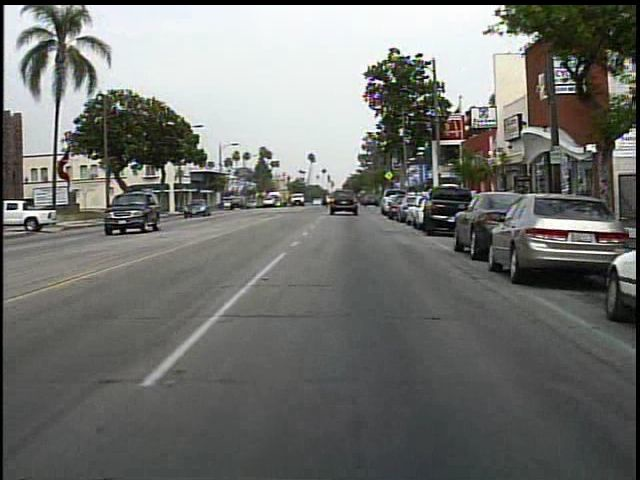person: (322, 189, 333, 216)
